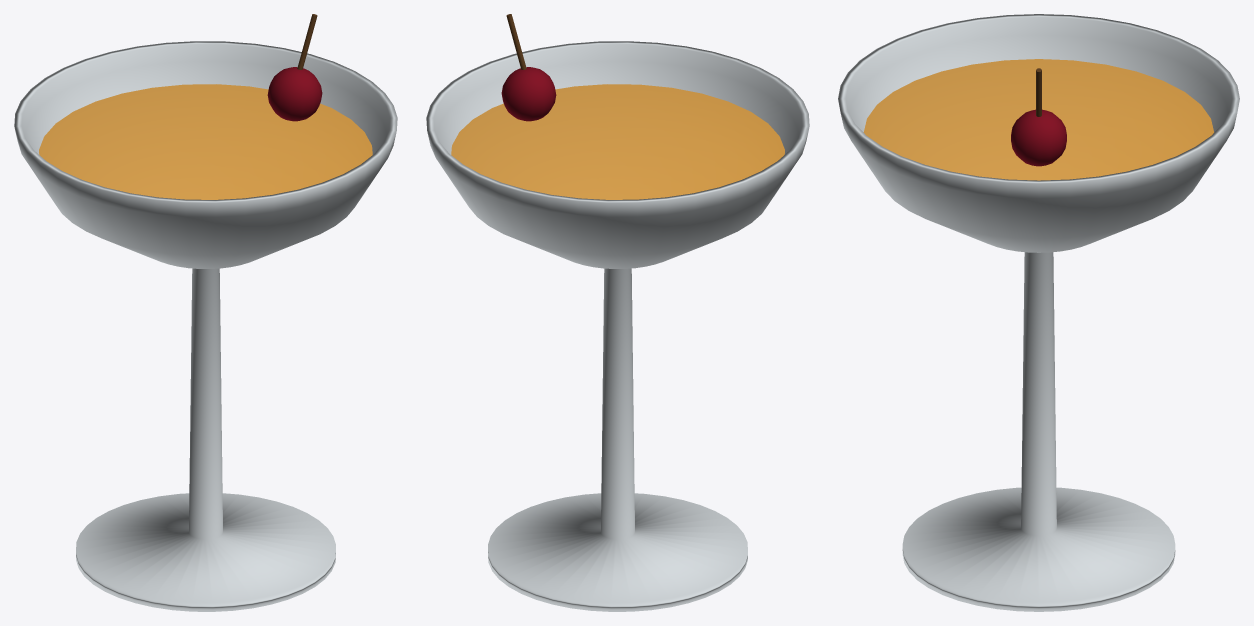
Rendered from cocktail-fig-storm.glb.
3 renders of one model, left to right at view 1: azimuth 30°, elevation 25°; view 2: azimuth 150°, elevation 25°; view 3: azimuth 270°, elevation 25°, orthographic. The views are drawn at different scales.
Bounding box in the file's own units: 0.112 × 0.1662 × 0.112.
